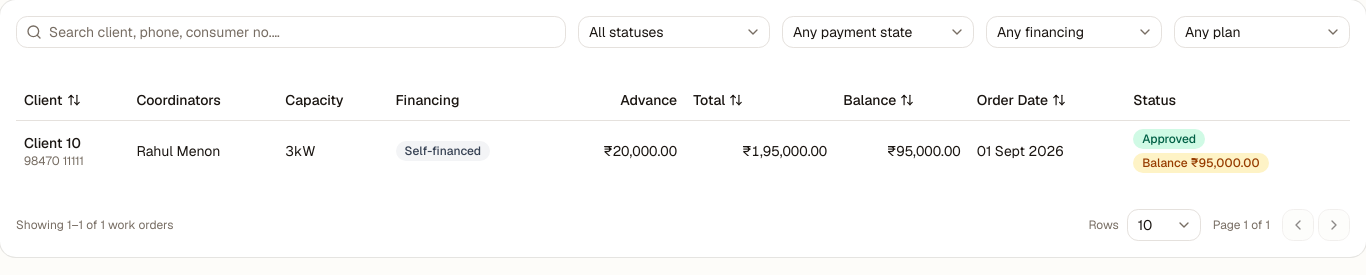
Test: WorkOrdersTable — filters › offers every viewer the five states, cancelled and refunded included
What coordinates should you click on to do the following:
click the dropdown labelled "All statuses"
I would click on:
 (674, 32)
Its box is [578, 16, 770, 48].
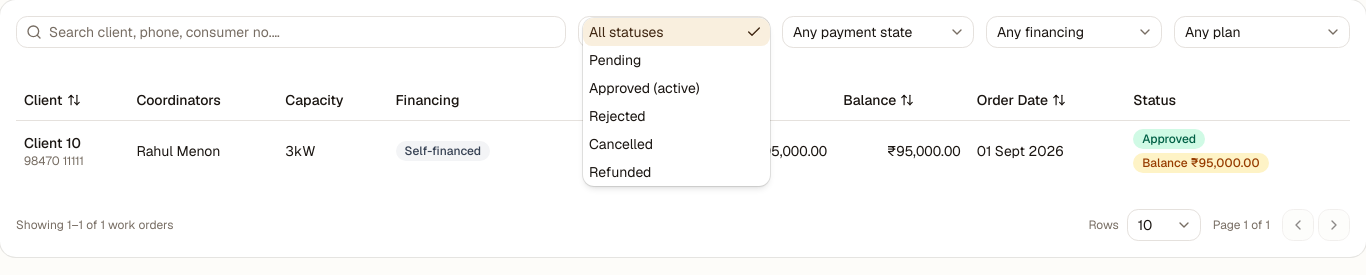
Expected: the options read "All statuses", "Pending", "Approved (active)", "Rejected", "Cancelled", "Refunded", in this order, [583, 18, 770, 46]; [589, 51, 641, 69]; [589, 79, 700, 97]; [589, 107, 646, 125]; [589, 135, 653, 153]; [589, 163, 652, 181]
